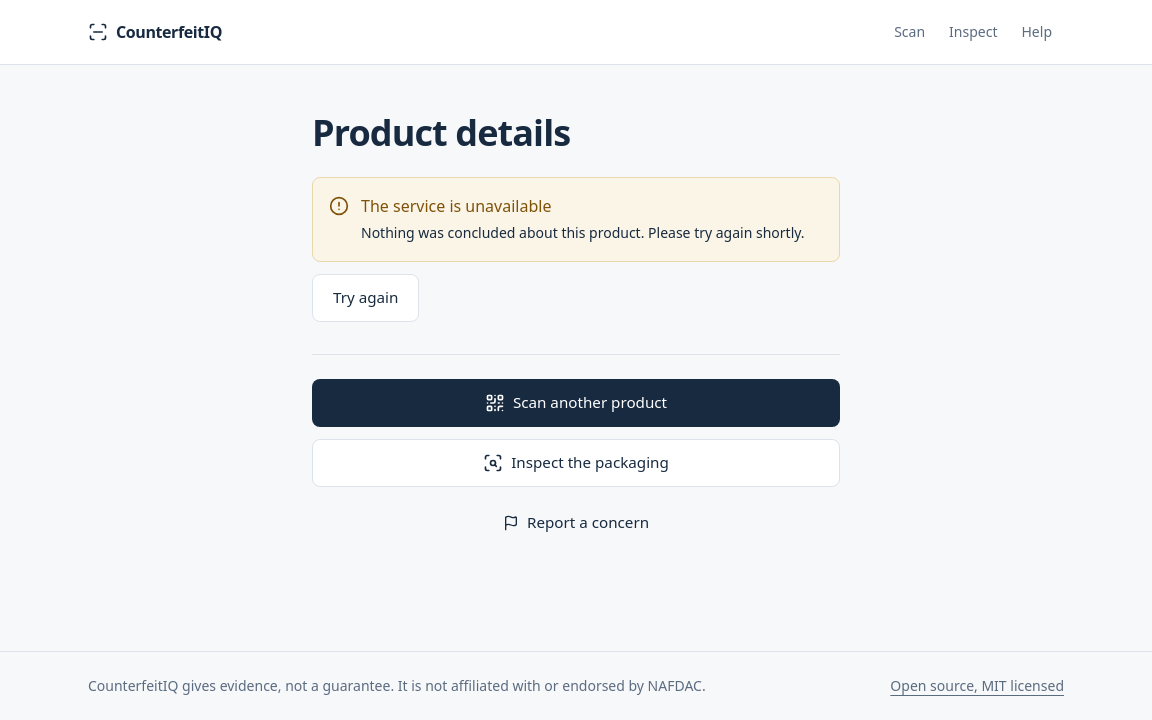
Test case: product result › shows an error and retries when the backend fails
The width and height of the screenshot is (1152, 720).
Expected: the message shows "The service is unavailable", x1=361 y1=195 x2=551 y2=217
Click the button "Try again": (366, 298) x1=312 y1=274 x2=419 y2=322
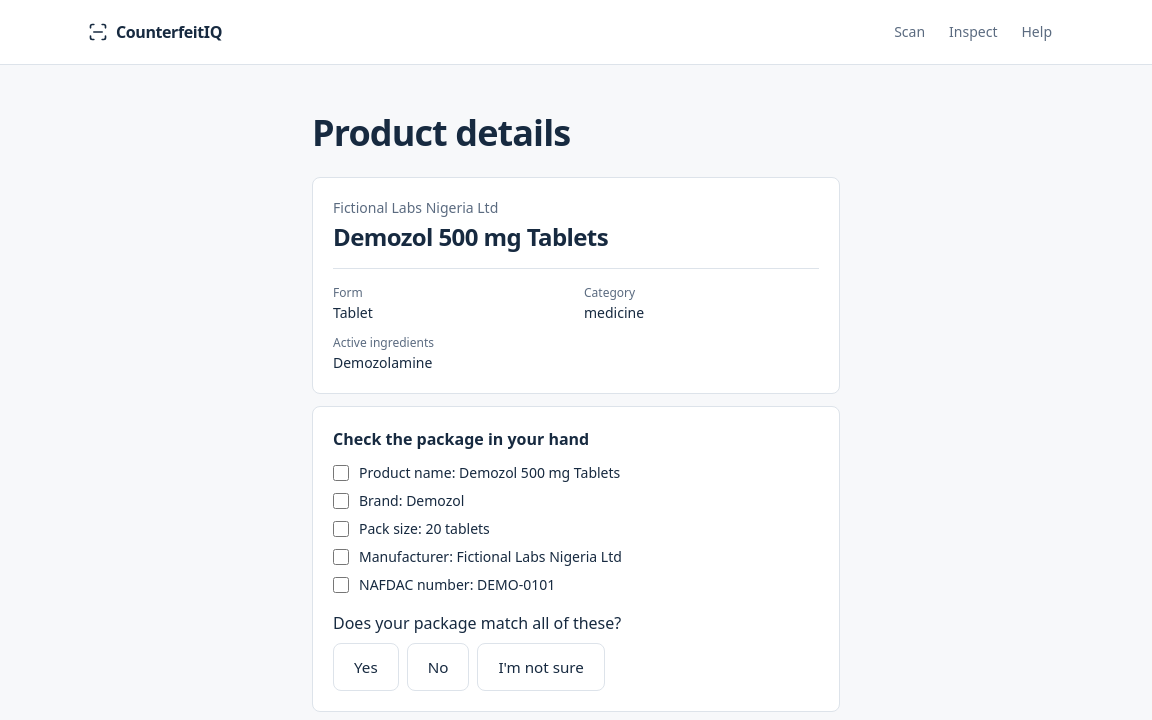
Expected: the text "Demozol 500 mg Tablets" is shown, x1=333 y1=220 x2=608 y2=253
